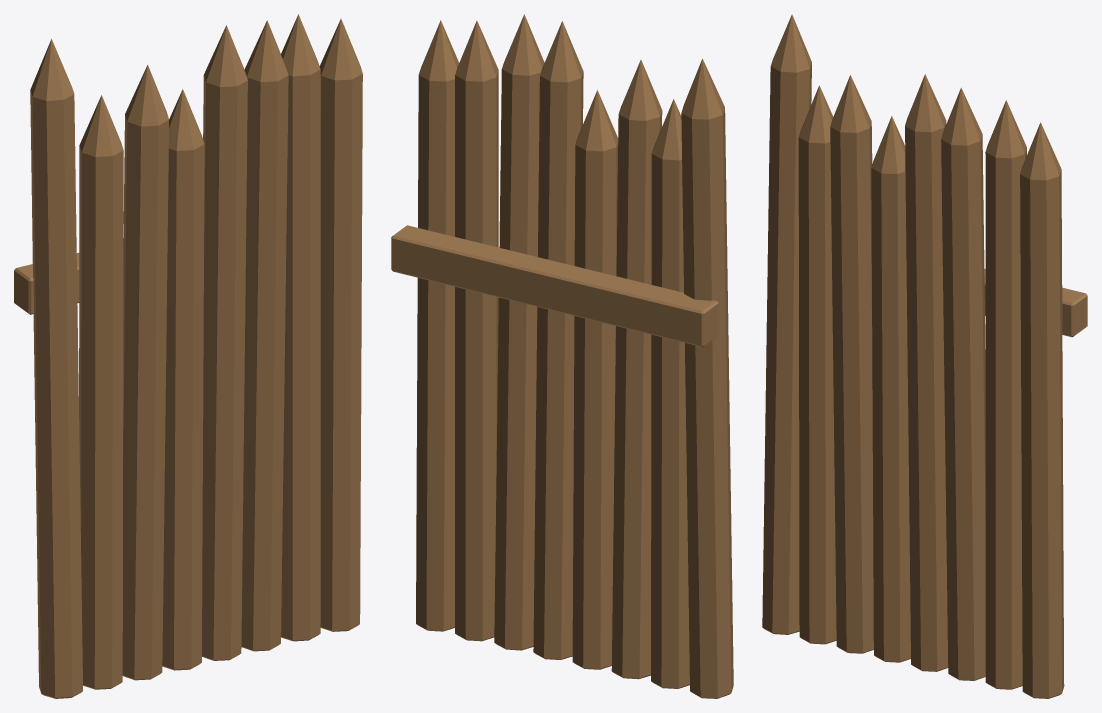
Rendered from palisade_seg.glb.
The picture shows the model from 3 angles, left to right: view 1: azimuth 30°, elevation 25°; view 2: azimuth 150°, elevation 25°; view 3: azimuth 330°, elevation 25°; orthographic projection. The views are drawn at different scales.
Visible parts, largest first — view 1: palisade_seg; view 2: palisade_seg; view 3: palisade_seg.
Part boxes in pixels (box(x1,y1,x2,y2)): palisade_seg: box(14, 14, 362, 698); palisade_seg: box(391, 14, 733, 698); palisade_seg: box(762, 14, 1087, 698).
Bounding box in the file's own units: 2 × 3.9 × 0.5185.
